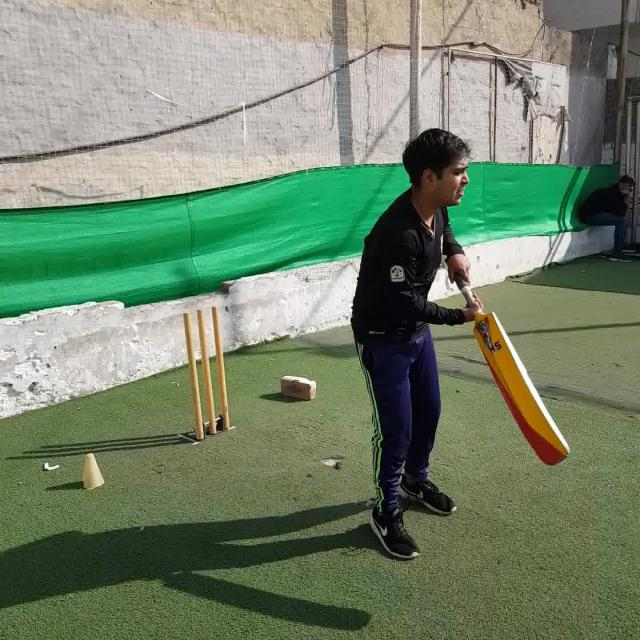bat: (458, 272, 571, 462)
